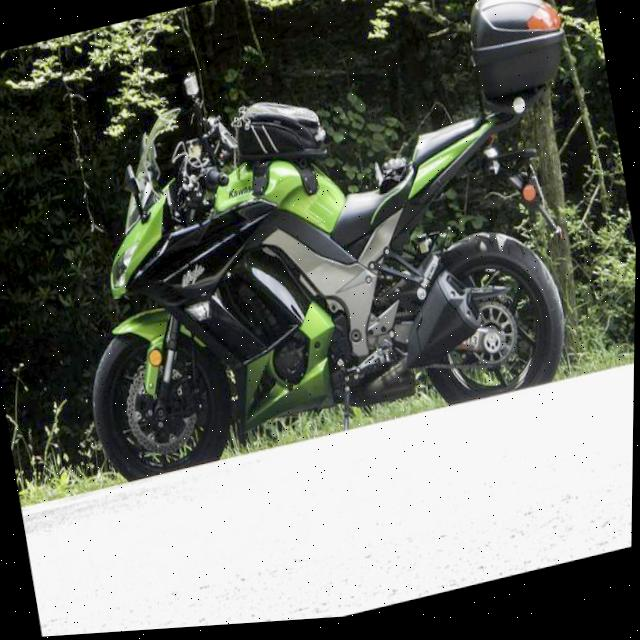motorcycle: (27, 0, 631, 491)
